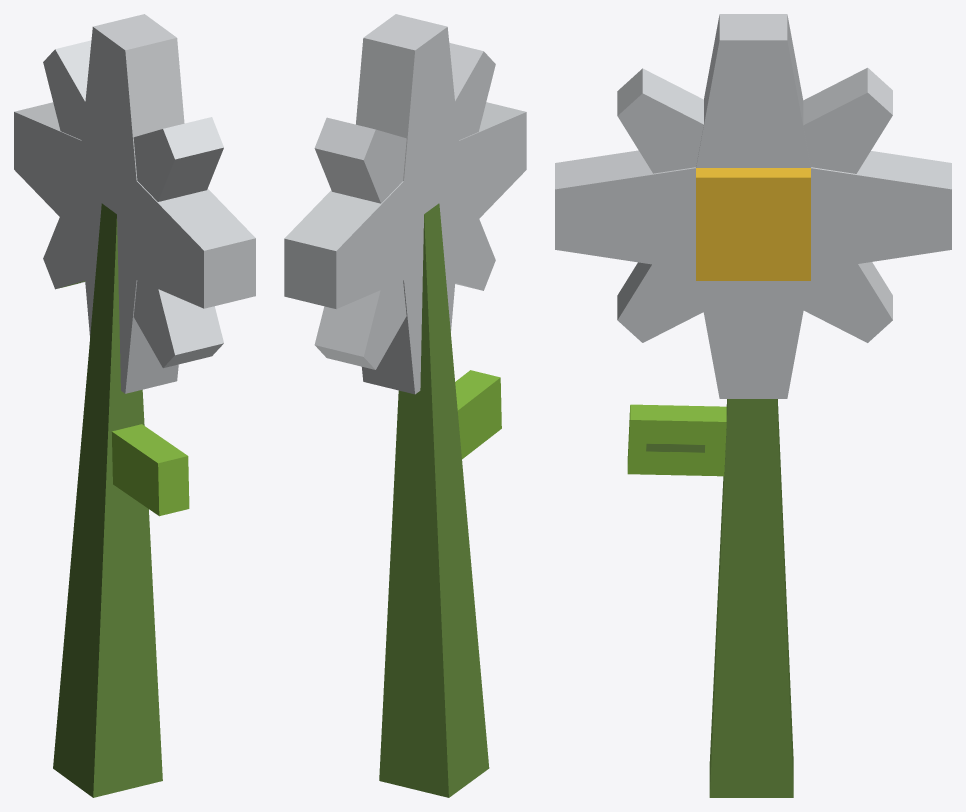
The model's file is fleur2.glb.
3 renders of one model, left to right at view 1: azimuth 30°, elevation 25°; view 2: azimuth 150°, elevation 25°; view 3: azimuth 270°, elevation 25°, orthographic. The views are drawn at different scales.
Parts seen in each view (by area): view 1: Cube; view 2: Cube; view 3: Cube.
Part boxes in pixels (box(x1,y1,x2,y2)): Cube: box(14, 14, 255, 797); Cube: box(284, 14, 526, 797); Cube: box(555, 14, 951, 797).
Size of the model in its own units: 0.1545 by 1.01 by 0.4723.
Materials: 1 (1 with a texture image).
